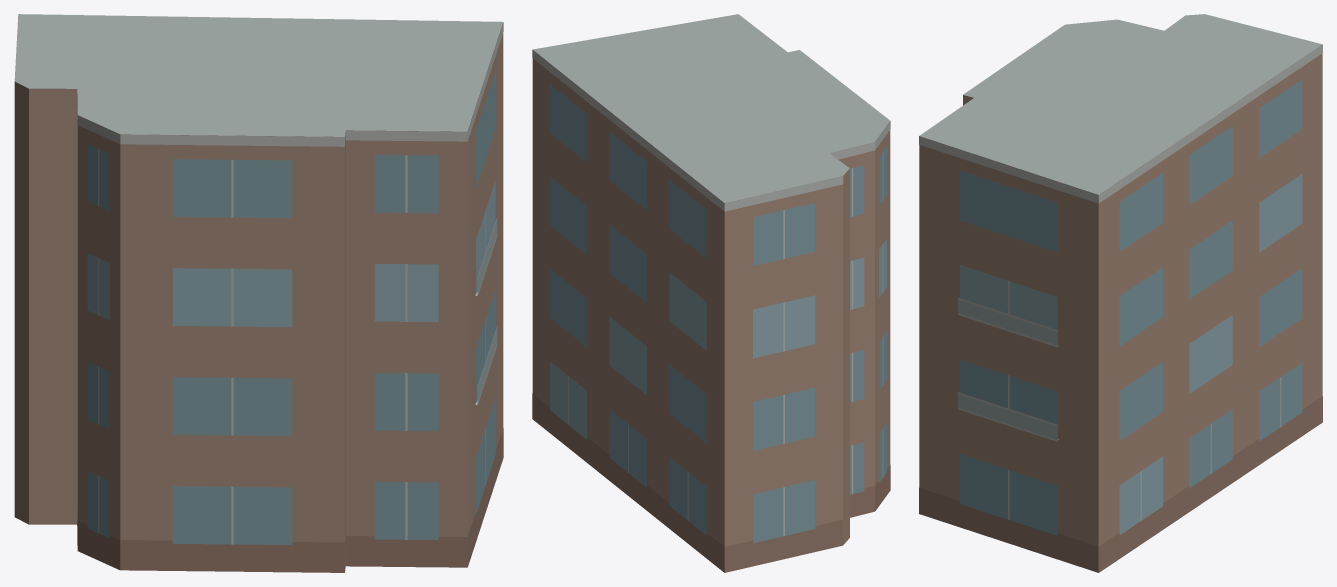
File: survey-upis-32552158.glb
3 renders of one model, left to right at view 1: azimuth 30°, elevation 25°; view 2: azimuth 150°, elevation 25°; view 3: azimuth 270°, elevation 25°, orthographic. The views are drawn at different scales.
Parts seen in each view (by area): view 1: survey-upis-32552158.tmp; view 2: survey-upis-32552158.tmp; view 3: survey-upis-32552158.tmp.
Part boxes in pixels (x1,y1,x2,y2): survey-upis-32552158.tmp: (14, 14, 503, 572); survey-upis-32552158.tmp: (532, 14, 890, 572); survey-upis-32552158.tmp: (919, 14, 1322, 572).
Size of the model in its own units: 10.94 by 10.65 by 10.32.
